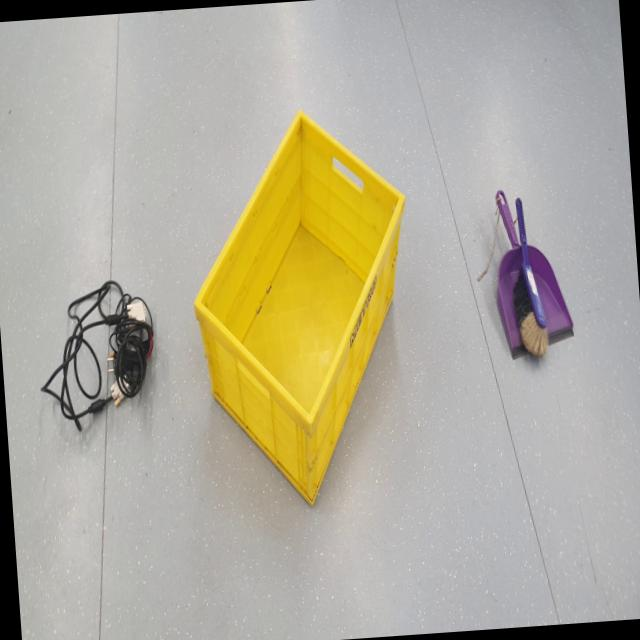box: (170, 85, 434, 530)
